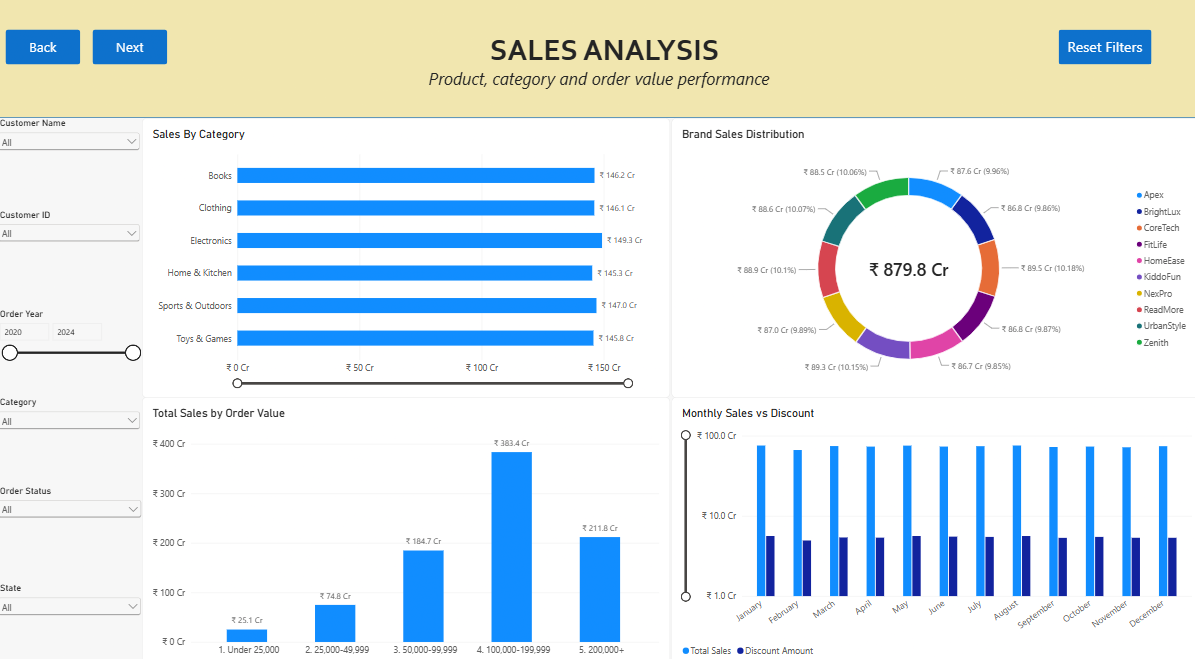

The page's visual inventory and layout, read from the dashboard file:
{"tool":"powerbi","page":{"name":"Sales Analysis","canvas":[1920,1080],"ordinal":2},"visuals":[{"type":"shape","box":[0,0,1920.7,200.4],"z":0},{"type":"textbox","box":[787.4,62,405.6,78.7],"z":1000},{"type":"textbox","box":[689.5,119.3,601.3,81.1],"z":2000},{"type":"clusteredBarChart","title":"Sales By Category","fields":{"Category":["Amazon_ETL_Processed.Category"],"Y":["Amazon_ETL_Processed.Total Sales Adaptive"]},"box":[233.8,200.4,840,445],"z":3000},{"type":"donutChart","title":"Brand Sales Distribution","fields":{"Category":["Amazon_ETL_Processed.Brand"],"Y":["Amazon_ETL_Processed.Total Sales Adaptive"]},"box":[1075,200,845,445],"z":4000},{"type":"clusteredColumnChart","fields":{"Y":["Amazon_ETL_Processed.Total Sales Adaptive"],"Category":["Amazon_ETL_Processed.OrderValueBandClean"]},"box":[235,645,840,435],"z":5000},{"type":"clusteredColumnChart","title":"Monthly Sales vs Discount","fields":{"Category":["Amazon_ETL_Processed.OrderMonthName"],"Y":["Amazon_ETL_Processed.Total Sales Adaptive","Amazon_ETL_Processed.Discount Amount Adaptive"]},"box":[1076,644.2,845,435],"z":6000},{"type":"actionButton","box":[1690.5,60.7,148.2,55.9],"z":7000},{"type":"actionButton","box":[17,60.7,119,55.9],"z":8000},{"type":"actionButton","box":[155.1,59.6,119,55.9],"z":9000},{"type":"slicer","fields":{"Values":["Amazon_ETL_Processed.OrderYear"]},"box":[0,503.4,235.7,142.9],"z":10000},{"type":"slicer","fields":{"Values":["Amazon_ETL_Processed.Category"]},"box":[0,645,235.7,140],"z":11000},{"type":"slicer","fields":{"Values":["Amazon_ETL_Processed.OrderStatus"]},"box":[0,785,237.5,155],"z":12000},{"type":"slicer","fields":{"Values":["Amazon_ETL_Processed.State"]},"box":[0,940,237.1,140],"z":13000},{"type":"slicer","fields":{"Values":["Amazon_ETL_Processed.CustomerName"]},"box":[0,200,235,150],"z":14000},{"type":"slicer","fields":{"Values":["Amazon_ETL_Processed.CustomerID"]},"box":[0,345,235,157.5],"z":15000}]}

Visuals, with their boxes in screenshot pixels (x1, y1, x2, y2), scaled from the page's 1920x1080 canvas onto the 1195x659 screenshot:
shape: rect(0, 0, 1194, 122)
textbox: rect(490, 38, 743, 86)
textbox: rect(429, 73, 803, 122)
"Sales By Category" clusteredBarChart: rect(146, 122, 668, 394)
"Brand Sales Distribution" donutChart: rect(669, 122, 1194, 394)
clusteredColumnChart - Amazon_ETL_Processed.Total Sales Adaptive x Amazon_ETL_Processed.OrderValueBandClean: rect(146, 394, 669, 658)
"Monthly Sales vs Discount" clusteredColumnChart: rect(670, 393, 1194, 658)
actionButton: rect(1052, 37, 1144, 71)
actionButton: rect(11, 37, 85, 71)
actionButton: rect(97, 36, 171, 70)
slicer - Amazon_ETL_Processed.OrderYear: rect(0, 307, 147, 394)
slicer - Amazon_ETL_Processed.Category: rect(0, 394, 147, 479)
slicer - Amazon_ETL_Processed.OrderStatus: rect(0, 479, 148, 574)
slicer - Amazon_ETL_Processed.State: rect(0, 574, 148, 658)
slicer - Amazon_ETL_Processed.CustomerName: rect(0, 122, 146, 214)
slicer - Amazon_ETL_Processed.CustomerID: rect(0, 211, 146, 307)
